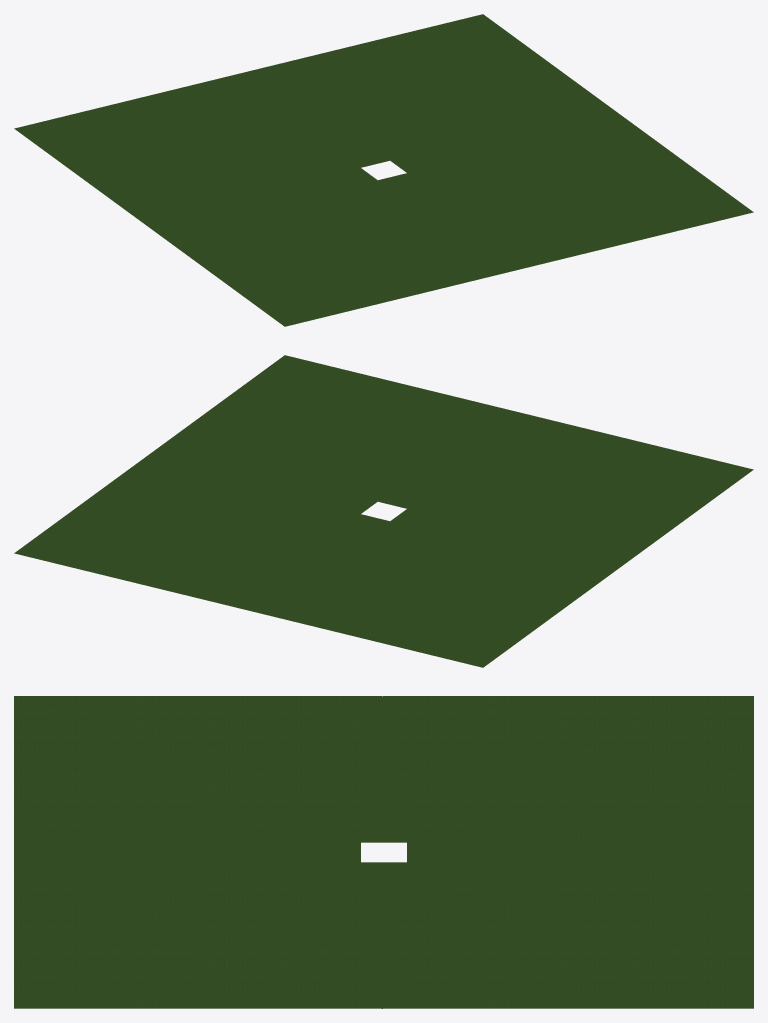
Rendered from duckov_outer_ground.obj.
The picture shows the model from 3 angles, top to bottom: view 1: azimuth 30°, elevation 25°; view 2: azimuth 150°, elevation 25°; view 3: azimuth 270°, elevation 25°; orthographic projection. The views are drawn at different scales.
Parts seen in each view (by area): view 1: DuckovOuterGround; view 2: DuckovOuterGround; view 3: DuckovOuterGround.
Part boxes in pixels (x1,y1,x2,y2): DuckovOuterGround: (14,14,753,326); DuckovOuterGround: (14,355,753,667); DuckovOuterGround: (14,696,753,1008).
Size of the model in its own units: 2400 by 0.65 by 2400.
Materials: 1 (1 with a texture image).
